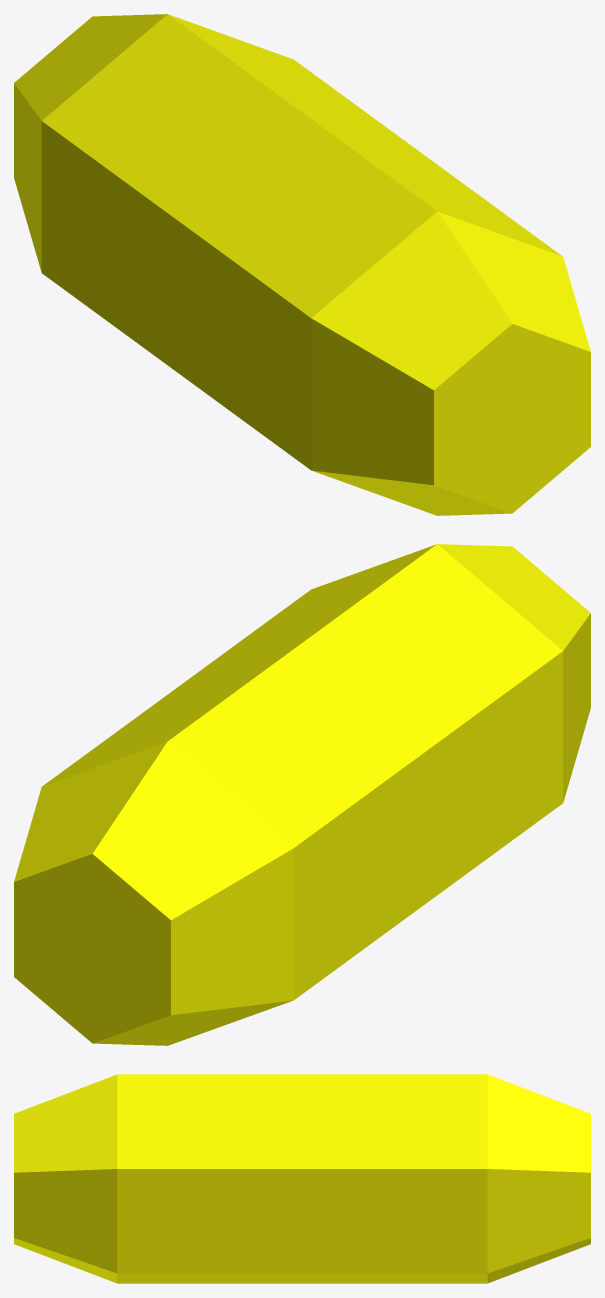
Rendered from projectile.glb.
3 renders of one model, top to bottom at view 1: azimuth 30°, elevation 25°; view 2: azimuth 150°, elevation 25°; view 3: azimuth 270°, elevation 25°, orthographic. The views are drawn at different scales.
Visible parts, largest first — view 1: proj; view 2: proj; view 3: proj.
Part boxes in pixels (box(x1,y1,x2,y2)): proj: box(14, 14, 590, 515); proj: box(14, 544, 590, 1045); proj: box(14, 1074, 590, 1283).
Size of the model in its own units: 0.0173 by 0.02 by 0.05.
